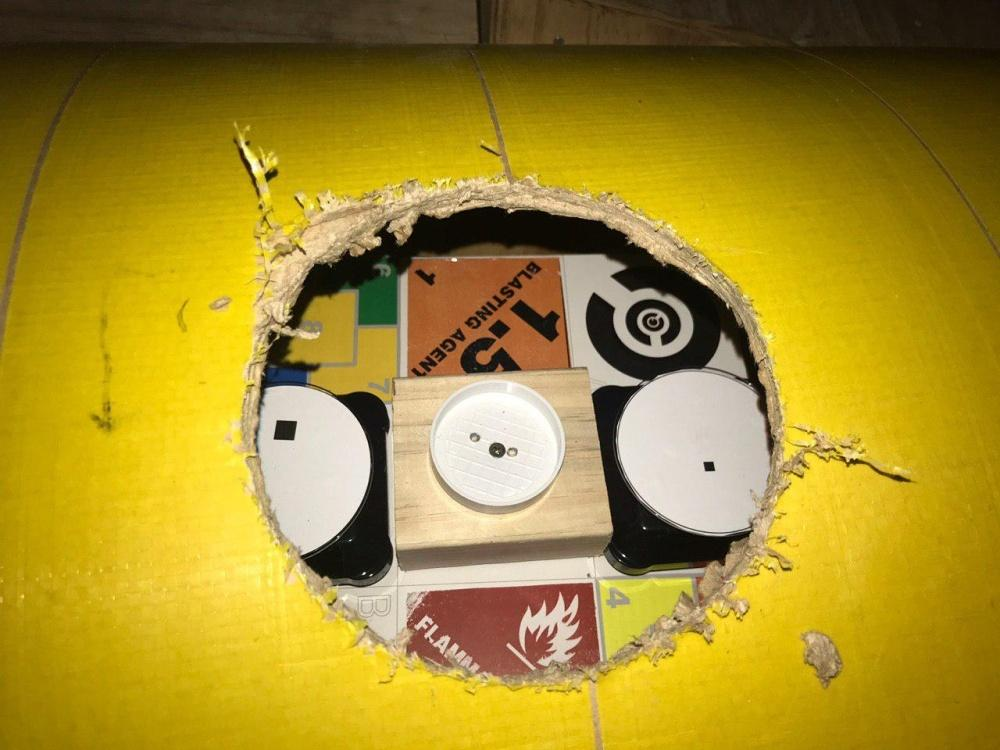explosive: (406, 260, 570, 384)
flammable: (403, 588, 609, 675)
